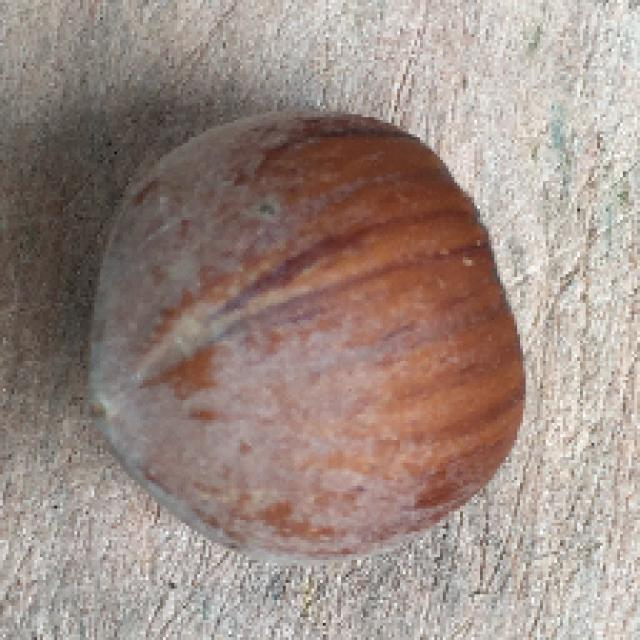qualityHazelnut: (90, 102, 530, 557)
